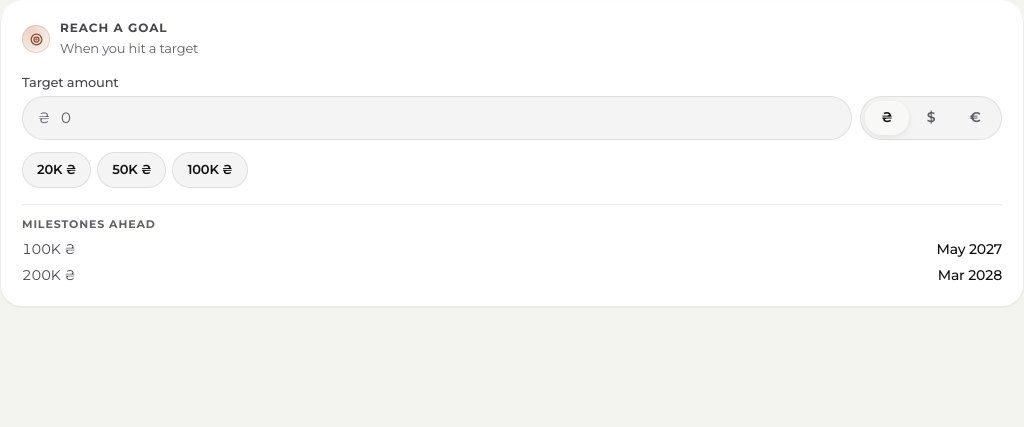
Test: GoalCard › fills a preset and says when the money is there already
This screenshot has width=1024, height=427.
Click the button "20K ₴": (57,170) [22, 152, 91, 188]
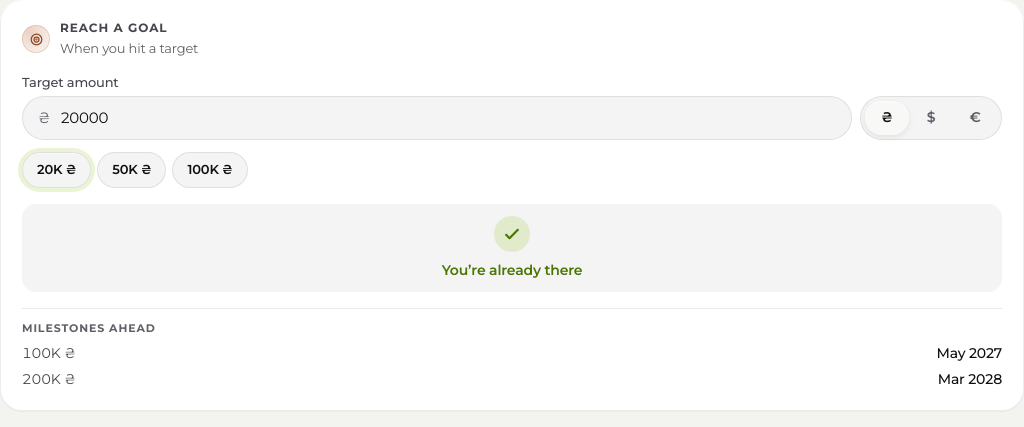
Check: the text "You’re already there" is shown, box [442, 261, 582, 279]
